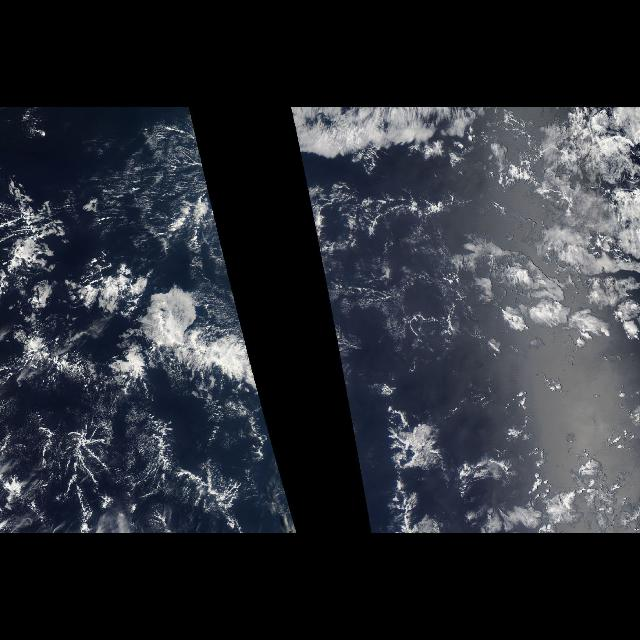Flower: (2, 162, 270, 454), (351, 158, 639, 366)
